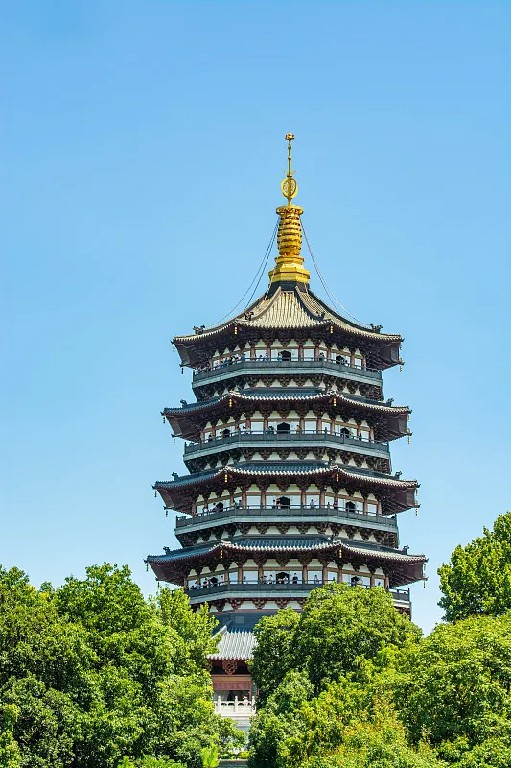Leifeng: (152, 134, 425, 749)
